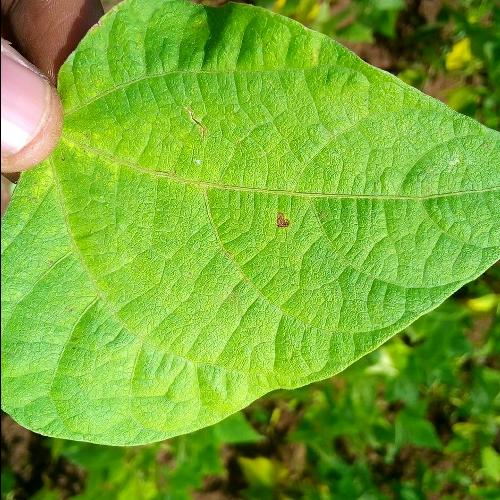hawar: (142, 81, 244, 203), (261, 202, 300, 252)
